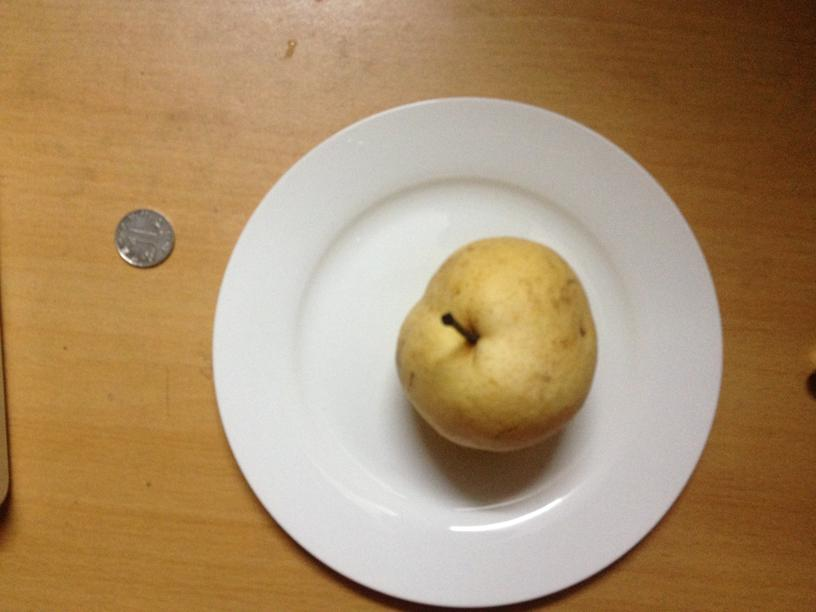coin: (114, 208, 173, 268)
pear: (396, 233, 600, 451)
